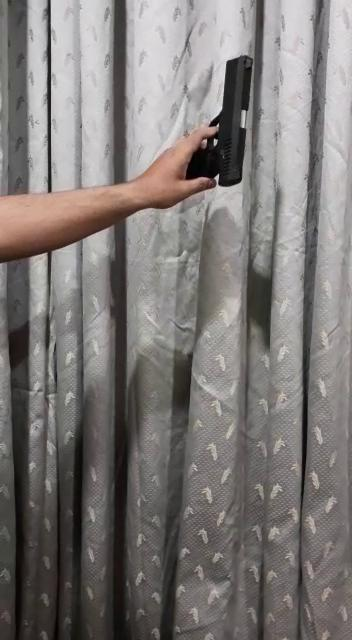weapon: (178, 50, 260, 192)
